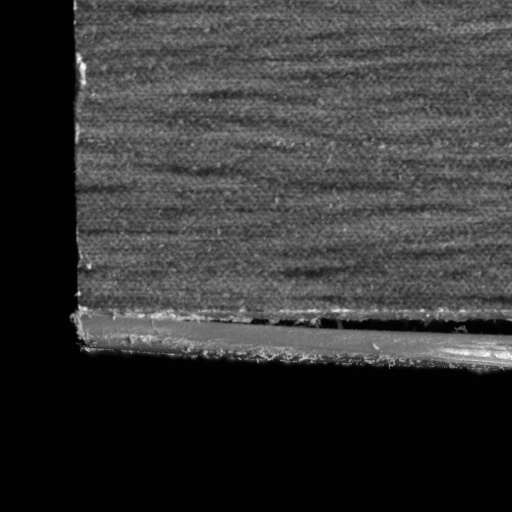kaijiao: (69, 308, 511, 374)
